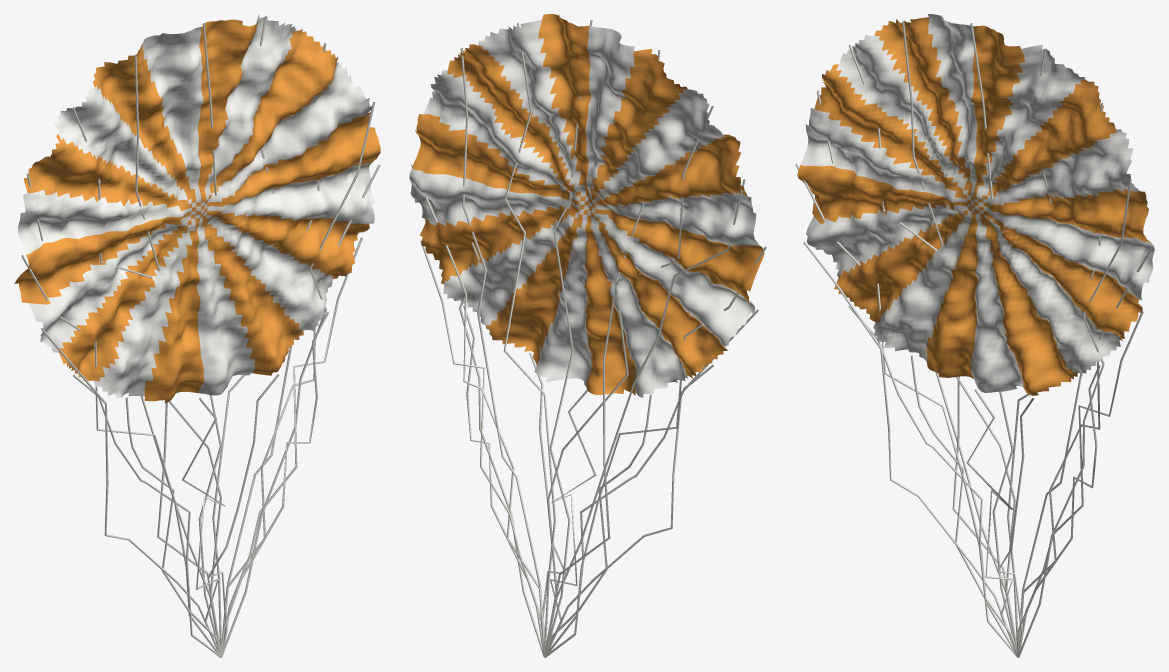
Rendered from actual parachute the other is the airbag.fbx.
3 renders of one model, left to right at view 1: azimuth 30°, elevation 25°; view 2: azimuth 150°, elevation 25°; view 3: azimuth 330°, elevation 25°, orthographic. The views are drawn at different scales.
Visible parts, largest first — view 1: Parachute_Canopy, Parachute_Lines; view 2: Parachute_Canopy, Parachute_Lines; view 3: Parachute_Canopy, Parachute_Lines.
Boxes of the visible parts, <box> form: Parachute_Canopy: <box>14,14,380,403</box>; Parachute_Lines: <box>21,15,380,657</box>; Parachute_Canopy: <box>409,14,764,397</box>; Parachute_Lines: <box>411,20,766,657</box>; Parachute_Canopy: <box>797,14,1154,395</box>; Parachute_Lines: <box>795,21,1152,657</box>.
Bounding box in the file's own units: 442 × 761 × 51.77.
